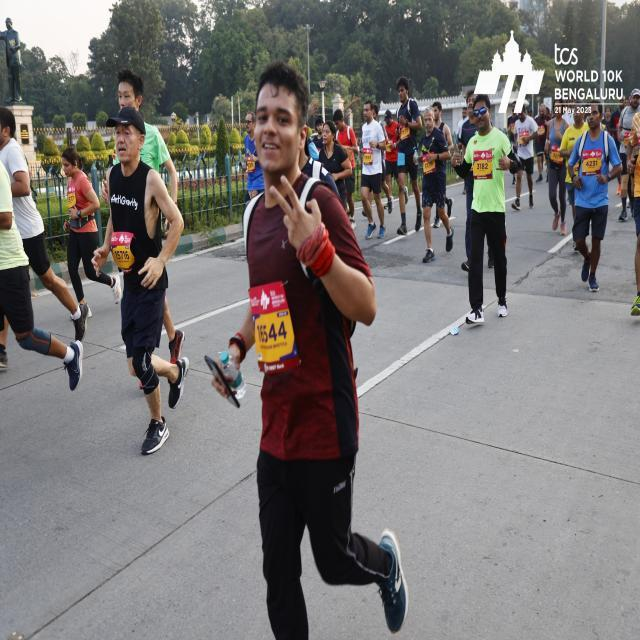dorsal: (248, 284, 299, 372), (472, 149, 493, 180), (581, 148, 602, 176)
